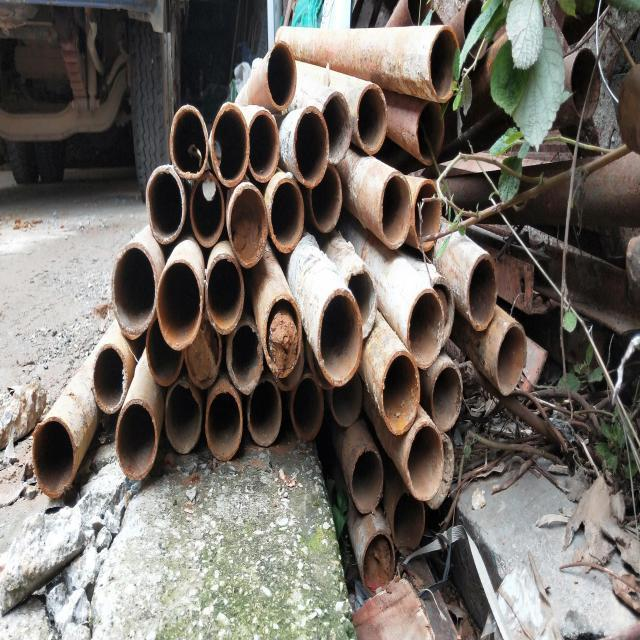pipe: (110, 239, 158, 342), (317, 286, 363, 388), (156, 254, 202, 354), (30, 411, 76, 502), (114, 396, 160, 486), (226, 180, 269, 270), (144, 162, 187, 248), (380, 348, 421, 436), (210, 99, 250, 188), (204, 252, 246, 336), (262, 293, 302, 380), (168, 102, 209, 184), (405, 286, 444, 372), (292, 104, 330, 190), (404, 422, 444, 501), (183, 312, 223, 390), (163, 380, 203, 458), (226, 318, 264, 396), (203, 388, 243, 462), (189, 170, 225, 250), (269, 176, 305, 256), (377, 170, 412, 252), (246, 374, 283, 450), (92, 340, 128, 416), (354, 78, 388, 158), (145, 318, 184, 387), (344, 265, 378, 344), (494, 319, 528, 398), (428, 23, 461, 104), (466, 250, 498, 332), (290, 371, 325, 444), (248, 106, 280, 184), (391, 487, 426, 558), (569, 45, 600, 124), (266, 39, 298, 115), (322, 88, 353, 166), (349, 445, 384, 514), (361, 528, 396, 597), (310, 164, 344, 235), (413, 99, 448, 166), (430, 360, 462, 432), (412, 178, 442, 254), (426, 433, 455, 511), (328, 373, 364, 429), (430, 276, 456, 350), (277, 337, 306, 397), (462, 1, 490, 62)
